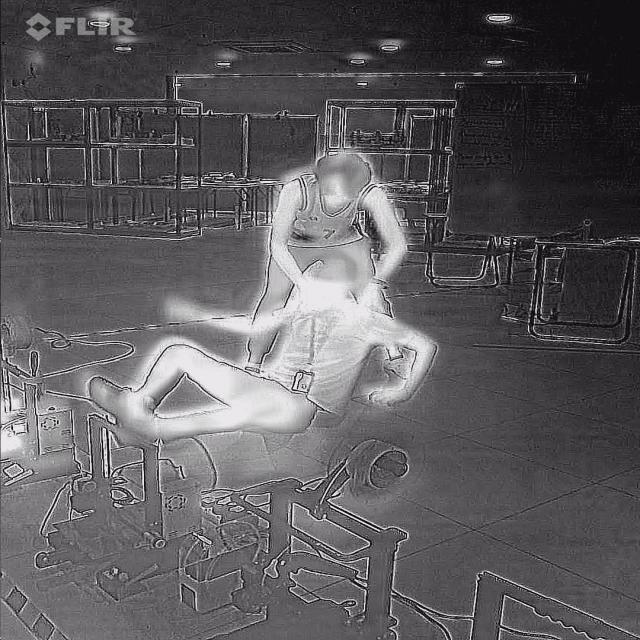Victim: (89, 148, 449, 442)
